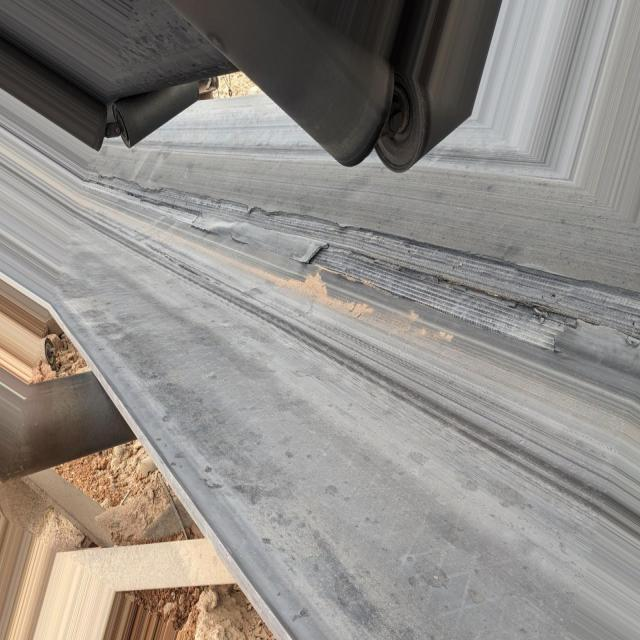Tear: (90, 179, 640, 380)
